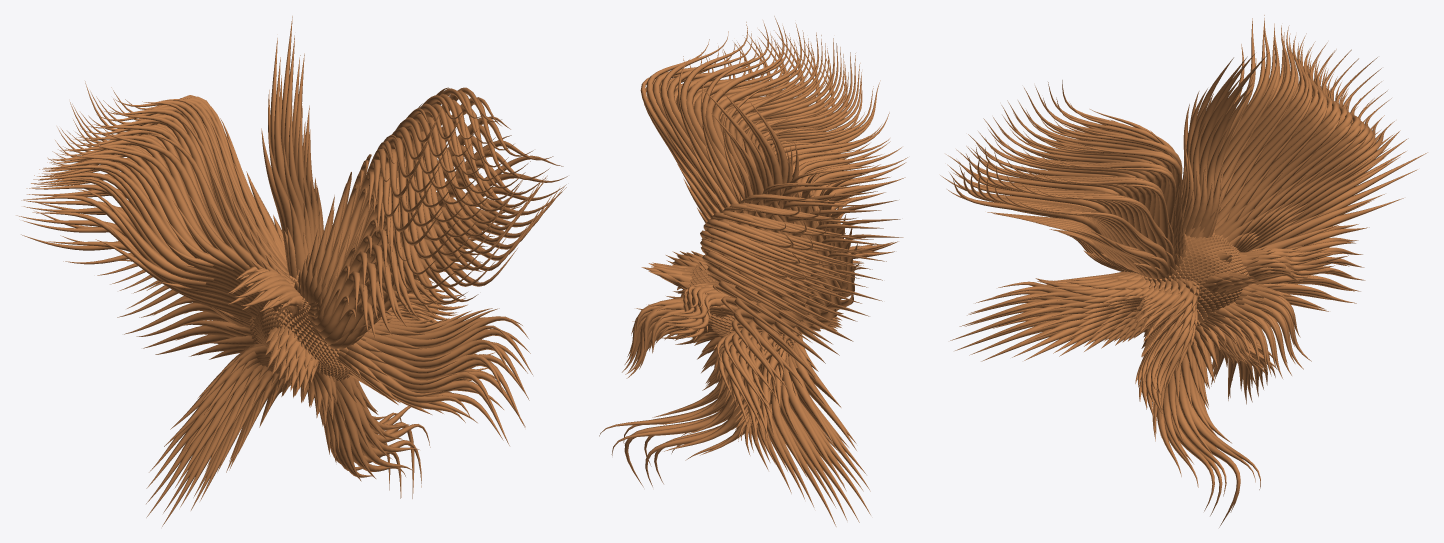
The model's file is dragon.gltf.
3 renders of one model, left to right at view 1: azimuth 30°, elevation 25°; view 2: azimuth 150°, elevation 25°; view 3: azimuth 270°, elevation 25°, orthographic. The views are drawn at different scales.
Parts seen in each view (by area): view 1: Plane; view 2: Plane; view 3: Plane.
Boxes of the visible parts, x1,y1,x2,y2 form: Plane: [16, 16, 567, 526]; Plane: [599, 16, 907, 526]; Plane: [940, 15, 1427, 527].
Size of the model in its own units: 8.62 by 10.25 by 10.46.
